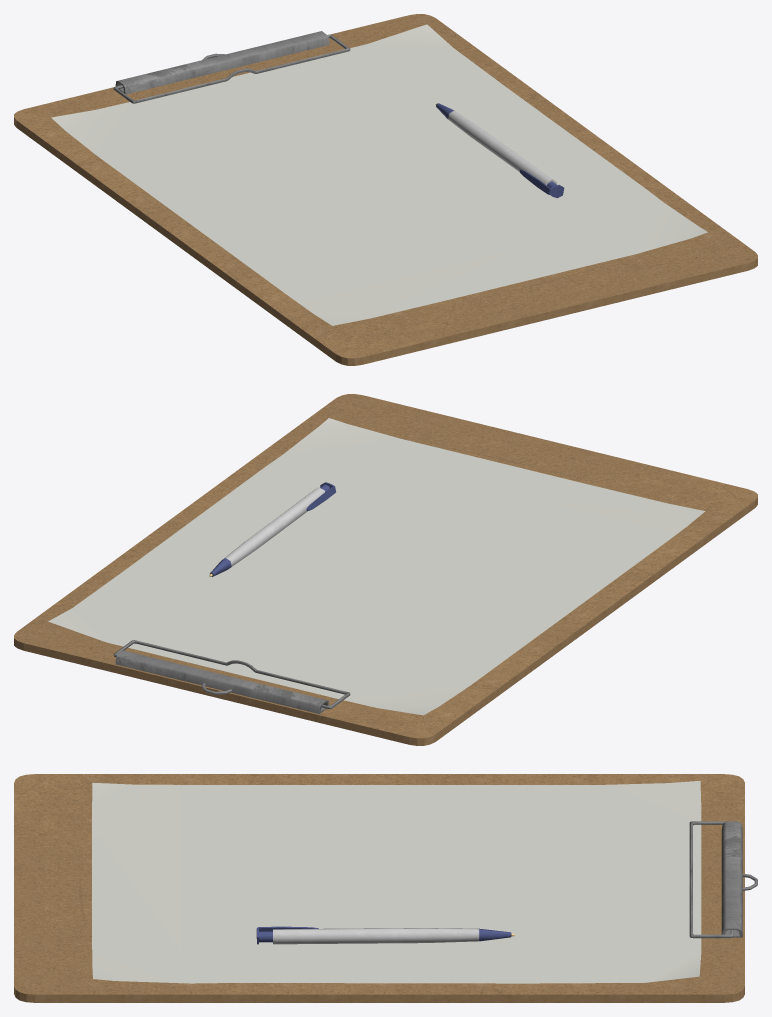
Rendered from clipboard.fbx.
3 views of the same model, one above another, from view 1: azimuth 30°, elevation 25°; view 2: azimuth 150°, elevation 25°; view 3: azimuth 270°, elevation 25° (orthographic). The views are drawn at different scales.
Visible parts, largest first — view 1: paper, clipboard, pen; view 2: paper, clipboard, pen; view 3: paper, clipboard, pen.
Part boxes in pixels (x1,y1,x2,y2): paper: [51, 24, 707, 325]; clipboard: [14, 14, 757, 365]; pen: [435, 103, 564, 198]; paper: [48, 418, 705, 715]; clipboard: [14, 394, 757, 745]; pen: [209, 482, 335, 576]; paper: [92, 780, 701, 983]; clipboard: [14, 774, 757, 1002]; pen: [256, 926, 514, 944].
Bounding box in the file's own units: 24 × 1.23 × 34.19.
1 material, 1 textured.
